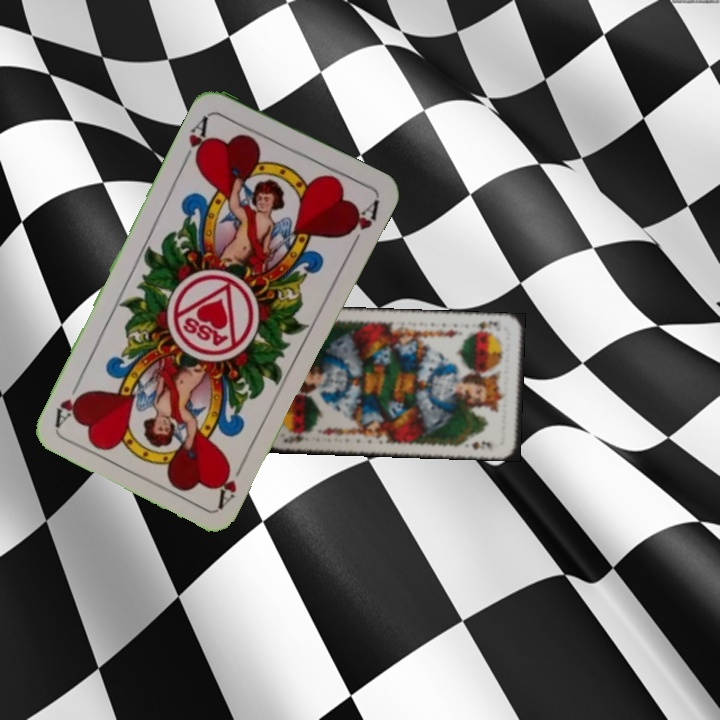HA: (212, 454, 249, 510), (179, 110, 213, 167)
SK: (468, 316, 500, 335), (280, 429, 306, 446)
